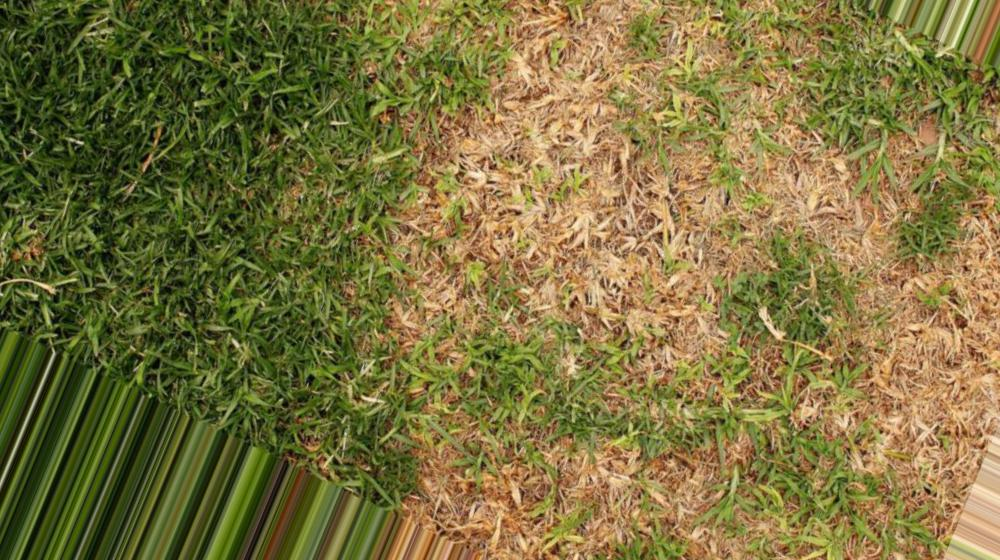patch: (462, 355, 625, 472), (639, 277, 766, 416), (574, 100, 721, 220), (852, 239, 970, 385), (414, 177, 564, 285), (637, 479, 771, 544), (766, 119, 851, 194), (872, 409, 983, 464), (470, 118, 539, 170), (519, 49, 606, 88), (656, 419, 702, 448), (766, 225, 799, 255)
